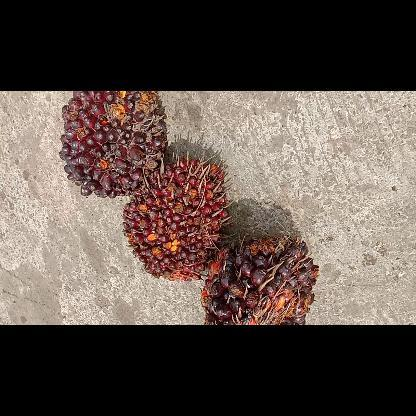Kurang masak: (122, 151, 230, 279), (59, 92, 167, 196)
TBS masak: (202, 236, 318, 324)
